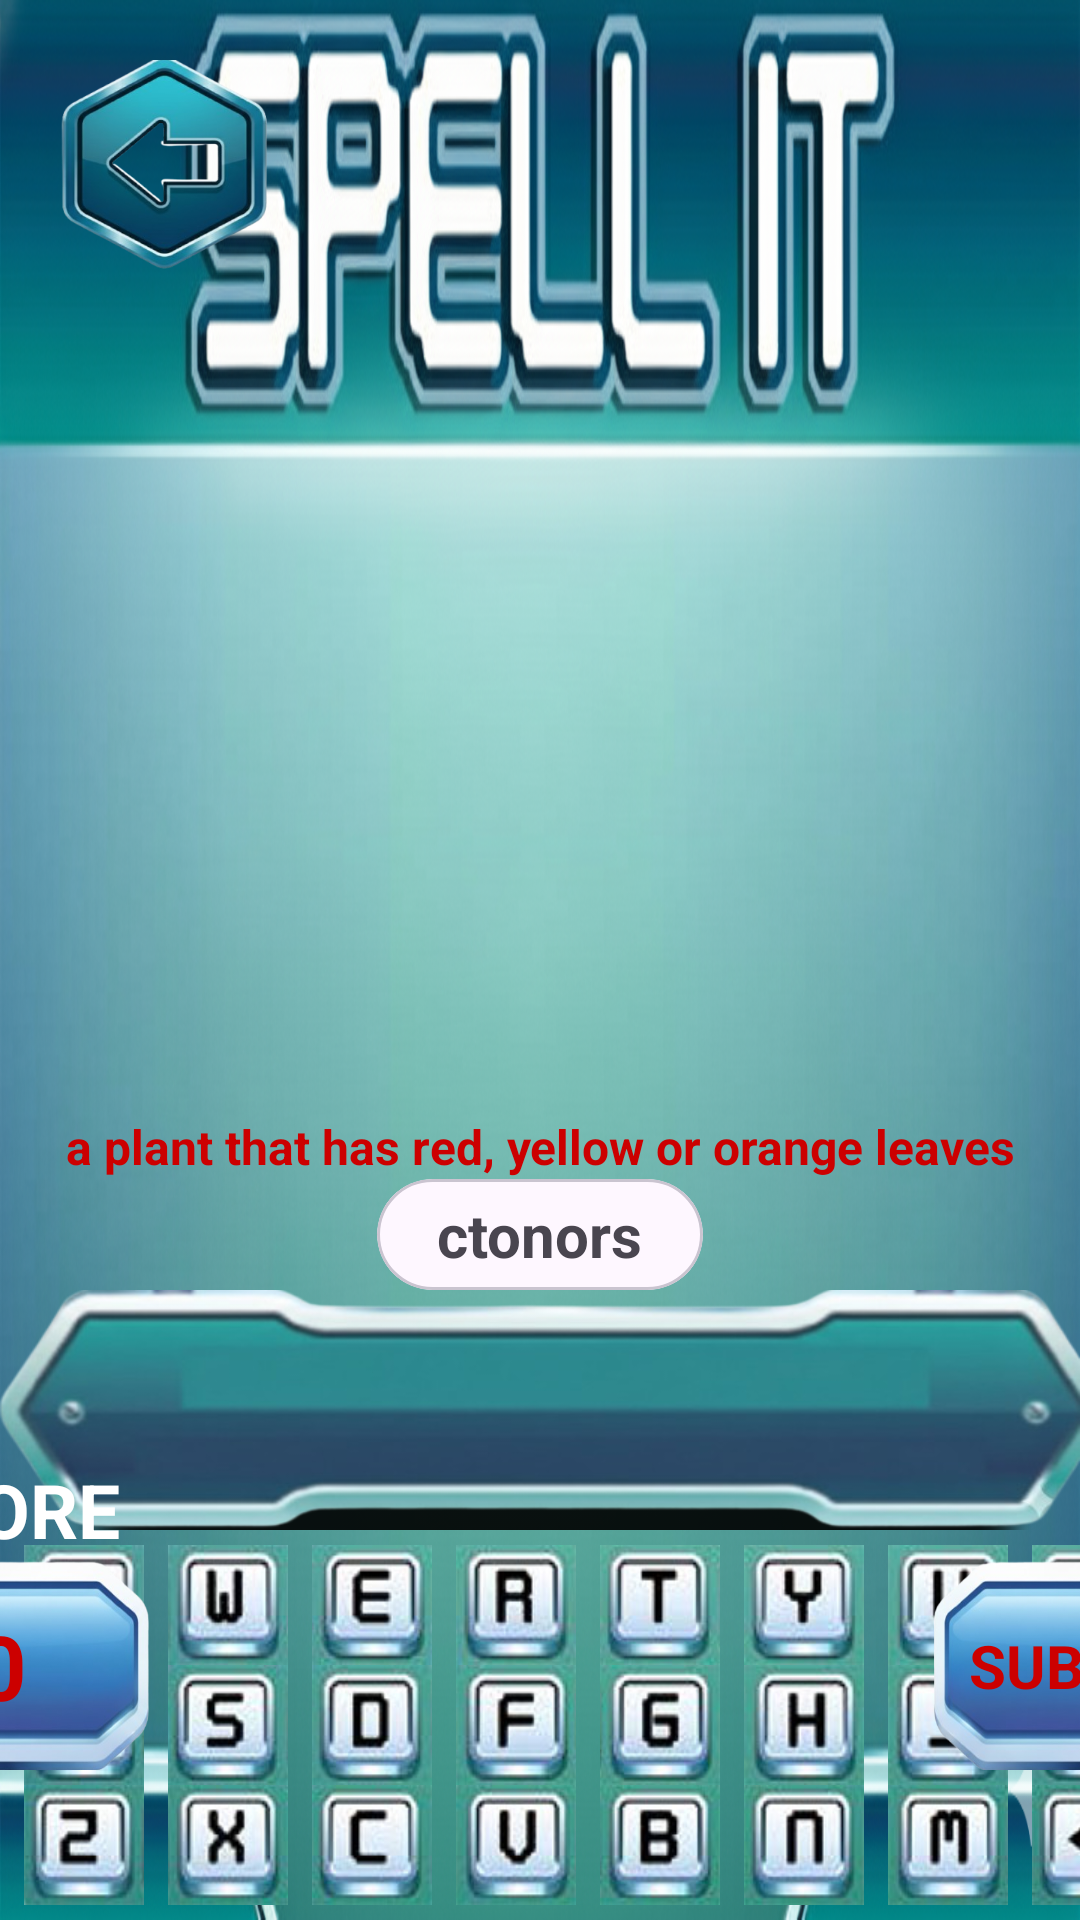

Point at icon controls on the screen. Image size 1080x1920, points as (x=x, y=y).
back: (x=165, y=165)
